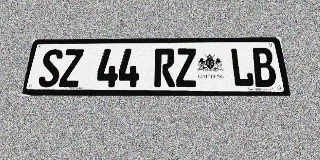4: (96, 49, 119, 87), (118, 49, 140, 87)
B: (251, 48, 278, 87)
L: (229, 48, 255, 87)
R: (154, 48, 175, 87)
S: (37, 49, 64, 87)
Z: (59, 49, 84, 87), (176, 48, 197, 87)
